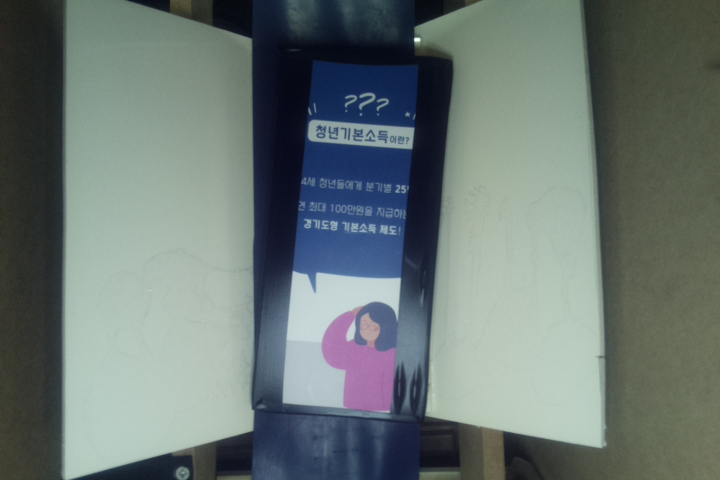book: (253, 52, 457, 424)
